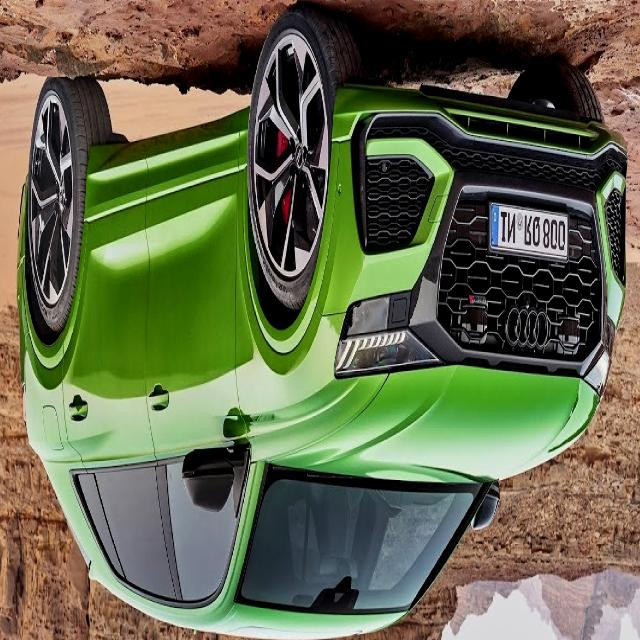green: (17, 0, 628, 640)
